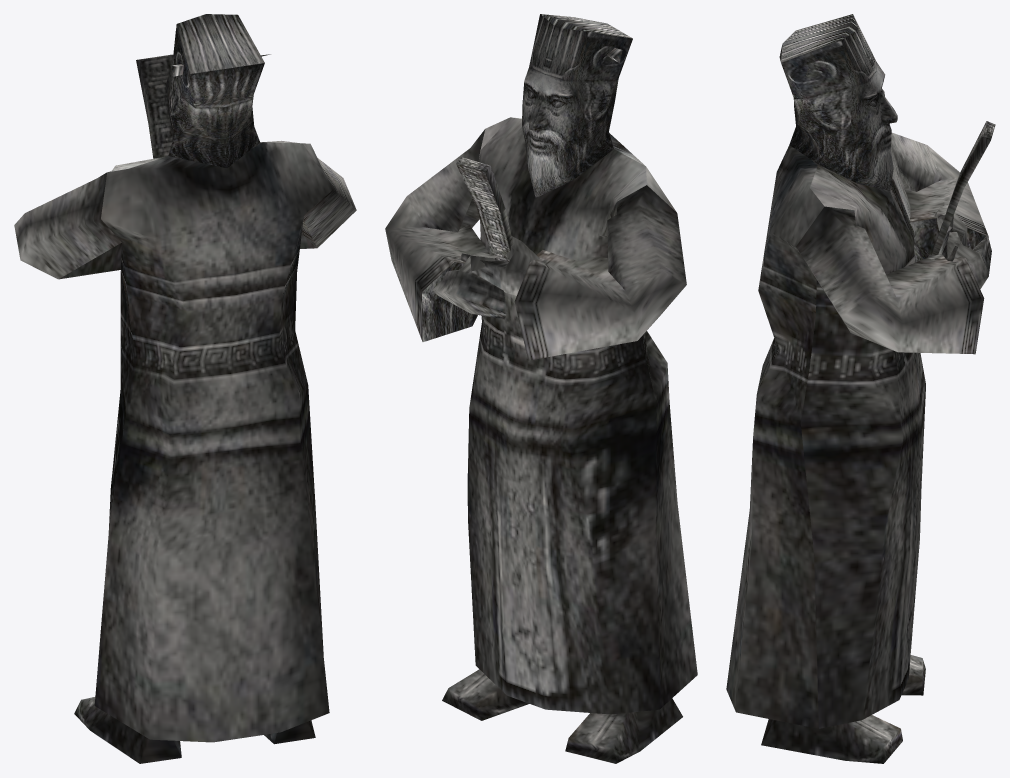
3 views of the same model, side by side, from view 1: azimuth 30°, elevation 25°; view 2: azimuth 150°, elevation 25°; view 3: azimuth 270°, elevation 25° (orthographic). The views are drawn at different scales.
Parts seen in each view (by area): view 1: np71; view 2: np71; view 3: np71.
Boxes of the visible parts, left/top/right/bottom form: np71: left=14, top=14, right=356, bottom=763; np71: left=385, top=14, right=697, bottom=763; np71: left=726, top=14, right=995, bottom=763.
Size of the model in its own units: 77.31 by 171 by 60.28.
